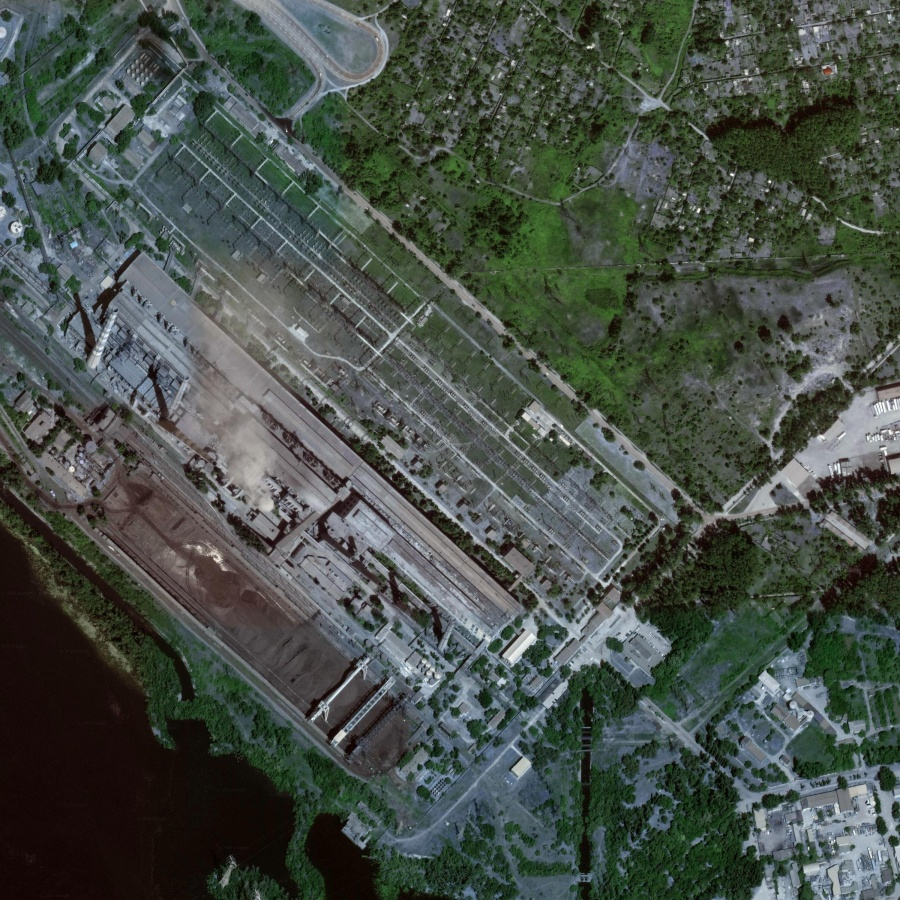PowerPlant: (43, 278, 476, 777)
